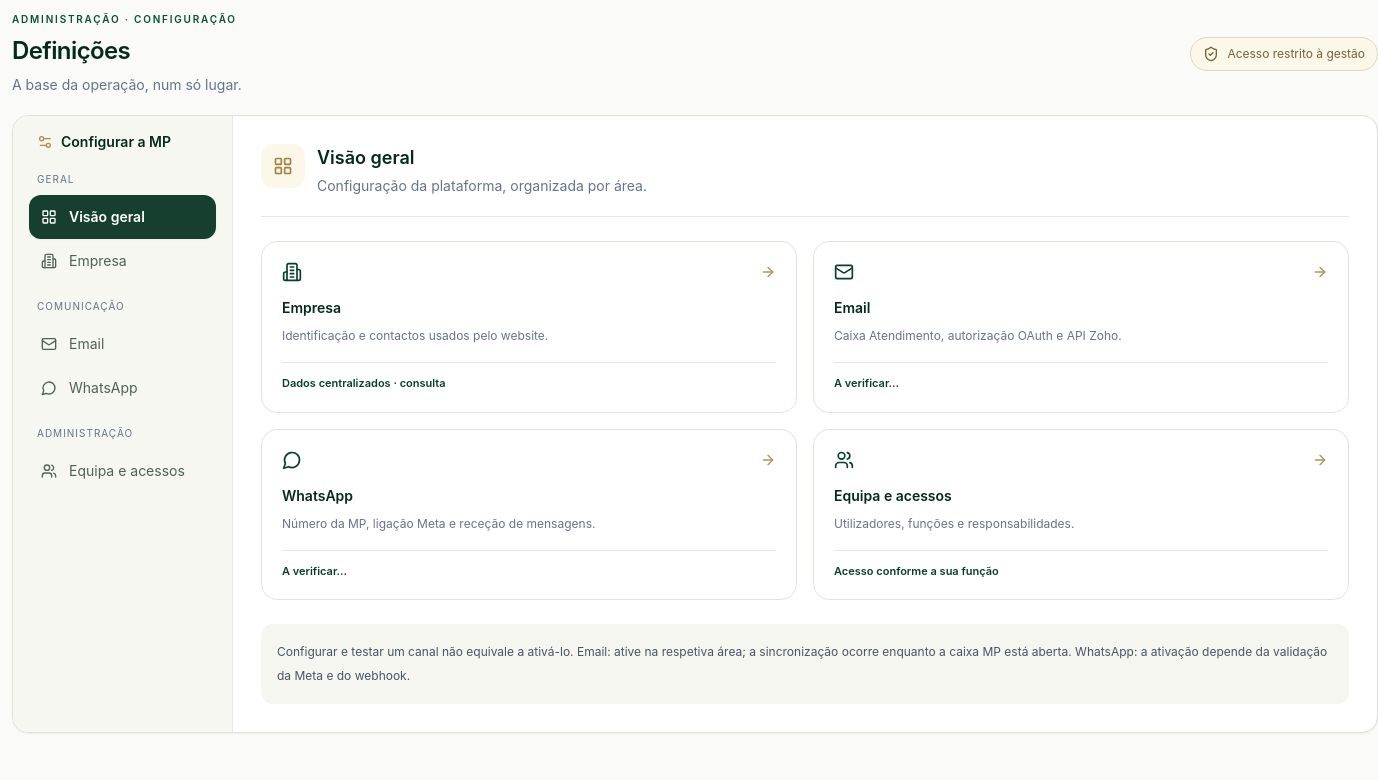
Settings workspace › hides user-management actions from roles without that permission
What coordinates should you click on to do the following:
click the button "Equipa e acessos"
I would click on:
 (122, 471)
Its box is [29,449,216,493].
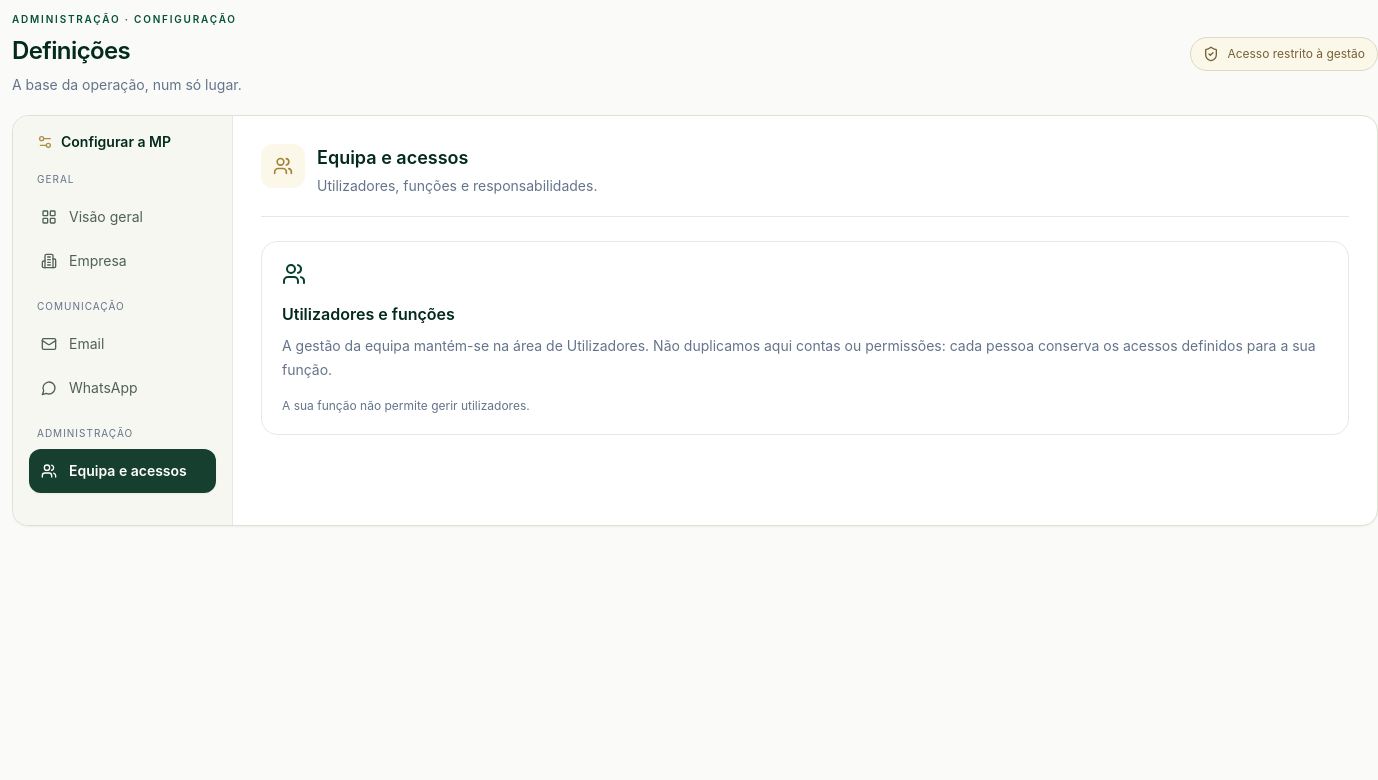
expect the text "A sua função não permite gerir utilizadores." is shown: met, box [282,398,530,413]
